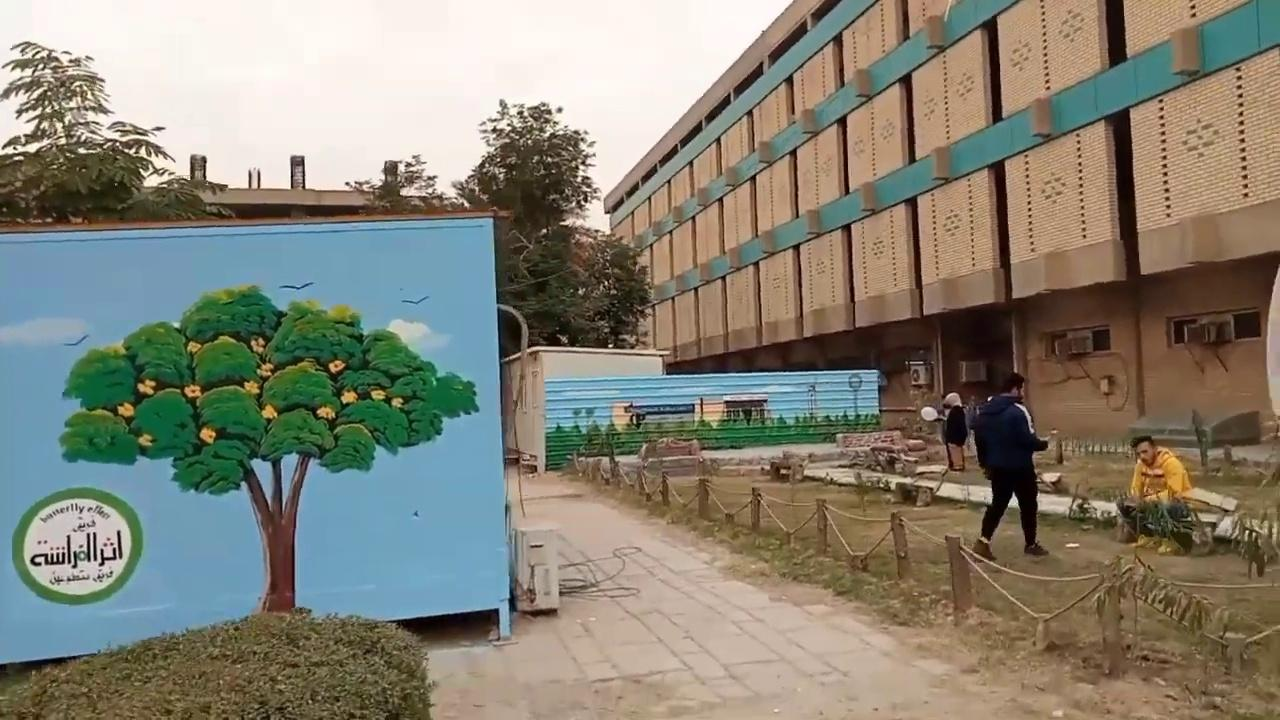person: (970, 371, 1050, 560), (1128, 434, 1193, 555), (941, 391, 968, 471)
tree: (58, 282, 479, 614), (345, 96, 655, 349), (0, 39, 234, 224), (451, 97, 603, 345), (562, 225, 655, 348), (344, 153, 441, 214)
